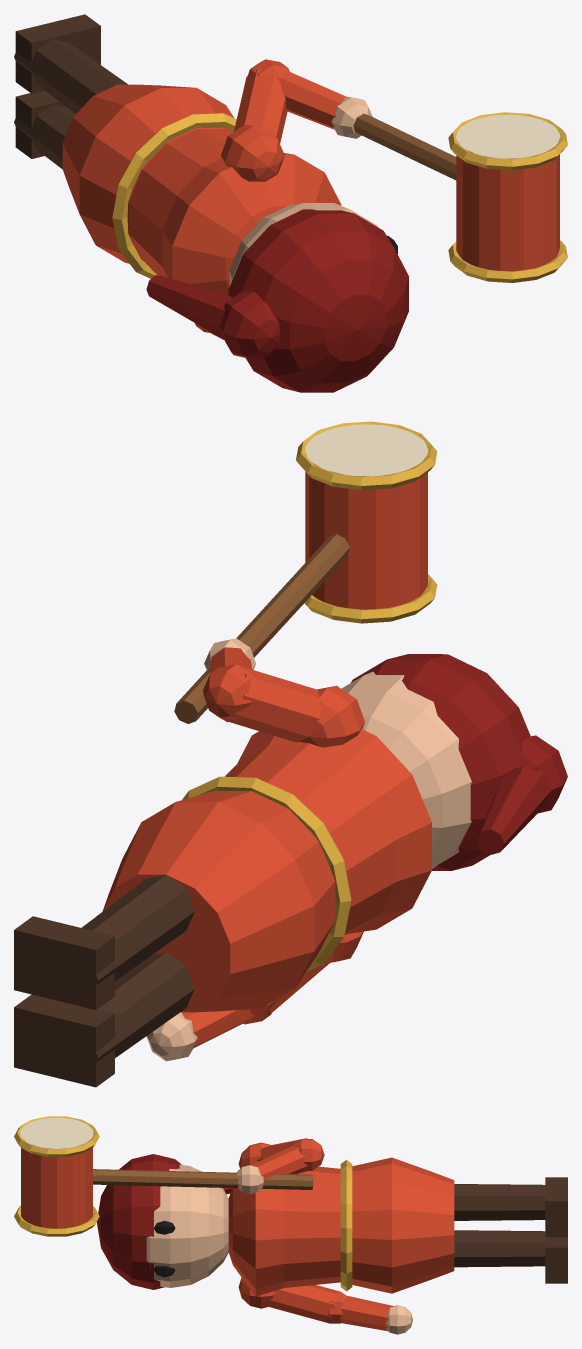
File: Oria.obj
3 views of the same model, one above another, from view 1: azimuth 30°, elevation 25°; view 2: azimuth 150°, elevation 25°; view 3: azimuth 270°, elevation 25° (orthographic). The views are drawn at different scales.
Parts seen in each view (by area): view 1: Oria; view 2: Oria; view 3: Oria.
Part boxes in pixels (x1,y1,x2,y2): Oria: (14,14,567,392); Oria: (14,421,567,1087); Oria: (14,1116,567,1334).
Bounding box in the file's own units: 83.62 × 88.52 × 195.
